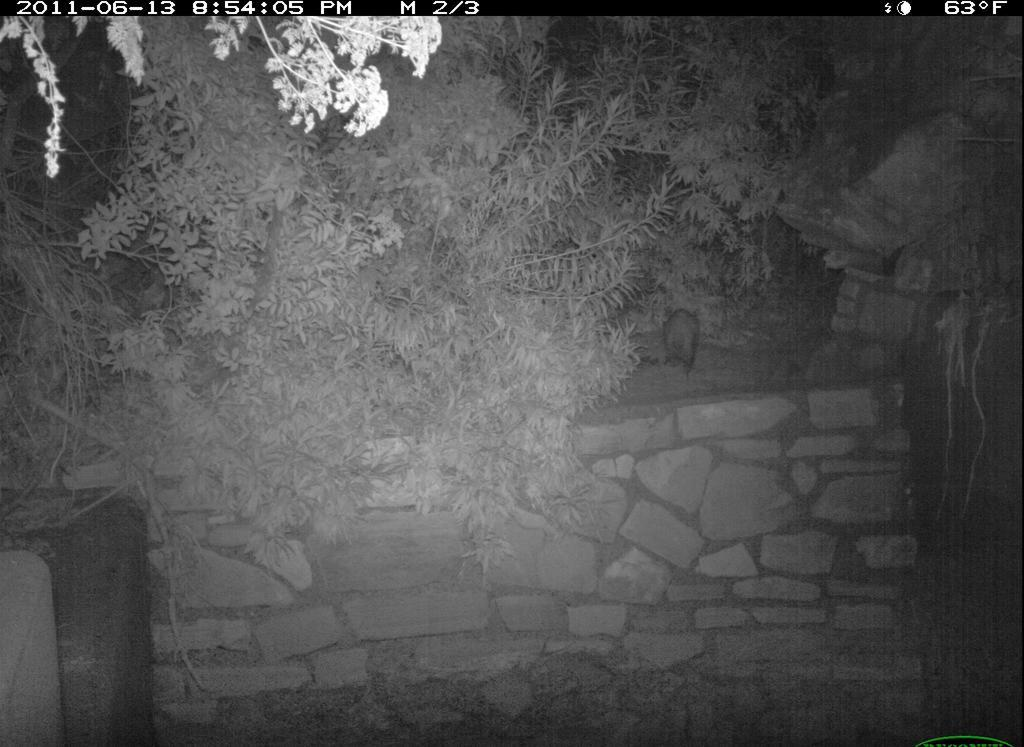opossum: (657, 300, 712, 382)
